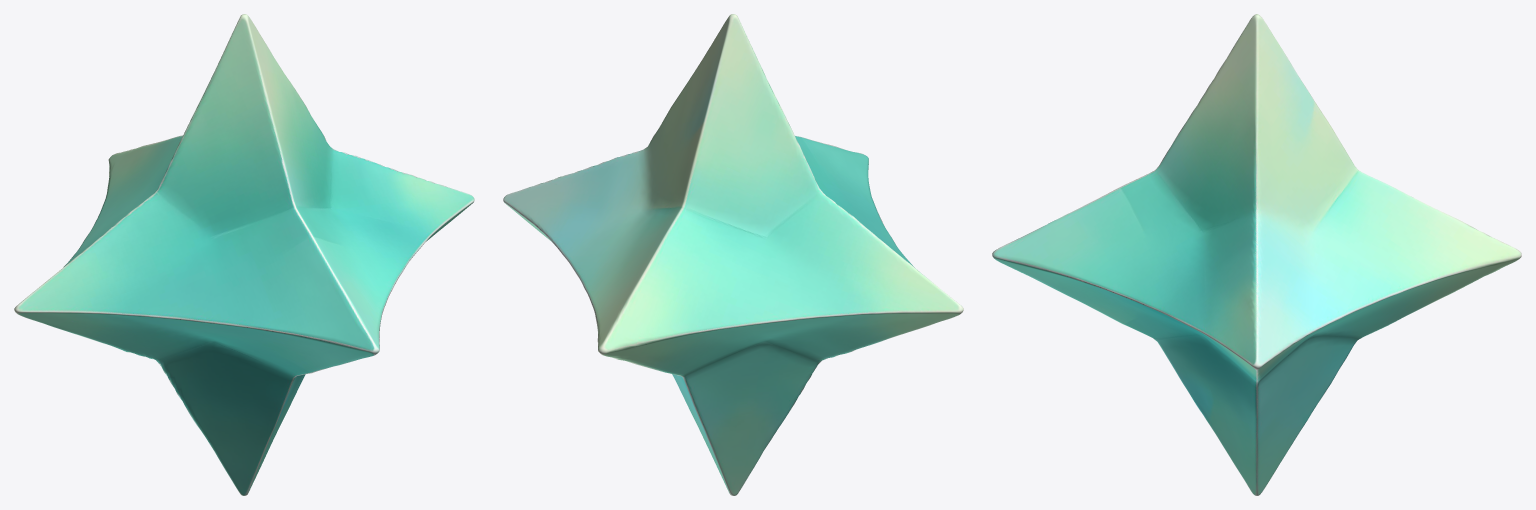
Rendered from four_point_star.glb.
3 renders of one model, left to right at view 1: azimuth 30°, elevation 25°; view 2: azimuth 150°, elevation 25°; view 3: azimuth 270°, elevation 25°, orthographic.
Visible parts, largest first — view 1: tripo_node_ad44fa64; view 2: tripo_node_ad44fa64; view 3: tripo_node_ad44fa64.
Boxes of the visible parts, box(x1,y1,x2,y2) form: tripo_node_ad44fa64: box(14, 14, 474, 495); tripo_node_ad44fa64: box(503, 14, 963, 495); tripo_node_ad44fa64: box(992, 14, 1521, 495).
Bounding box in the file's own units: 99.96 × 100 × 99.98.
1 material, 1 textured.
